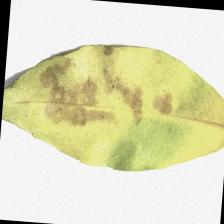canker: (42, 63, 167, 132)
